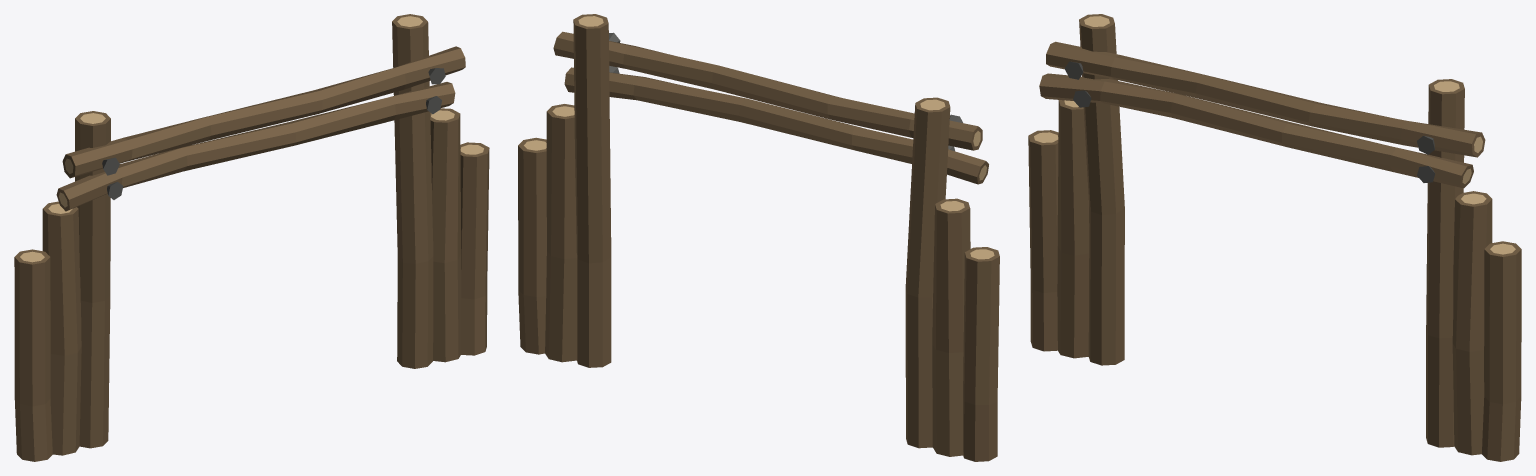
File: rpgpp_ag_gate_small_03.fbx
3 renders of one model, left to right at view 1: azimuth 30°, elevation 25°; view 2: azimuth 150°, elevation 25°; view 3: azimuth 330°, elevation 25°, orthographic. The views are drawn at different scales.
Visible parts, largest first — view 1: rpgpp_ag_gate_small_03; view 2: rpgpp_ag_gate_small_03; view 3: rpgpp_ag_gate_small_03.
Boxes of the visible parts, left/top/right/bottom form: rpgpp_ag_gate_small_03: left=14, top=14, right=489, bottom=461; rpgpp_ag_gate_small_03: left=518, top=14, right=999, bottom=461; rpgpp_ag_gate_small_03: left=1028, top=14, right=1521, bottom=461.
Bounding box in the file's own units: 7.62 × 5.22 × 1.11.
